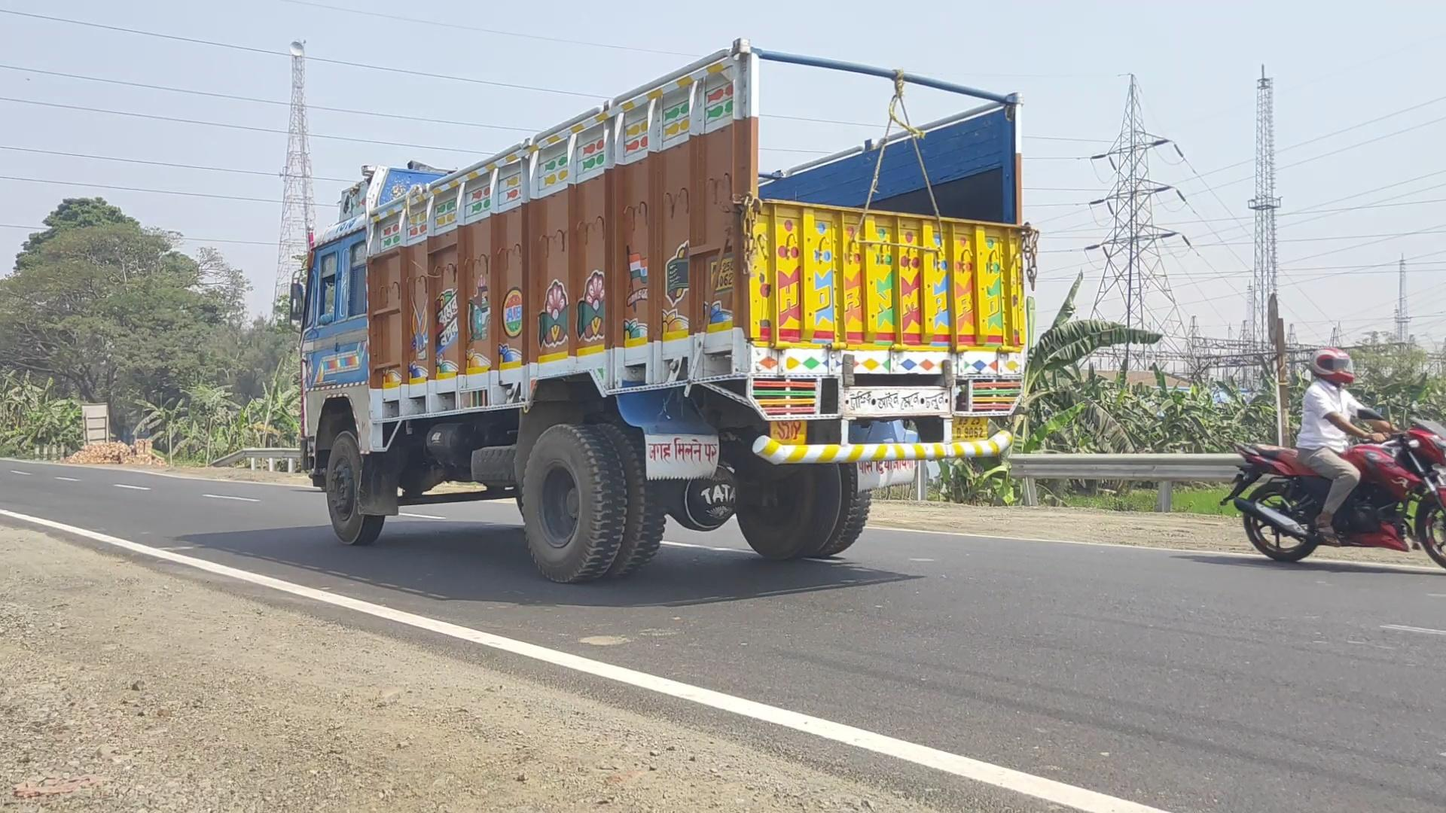bike: (1223, 348, 1446, 573)
truck: (291, 37, 1038, 583)
